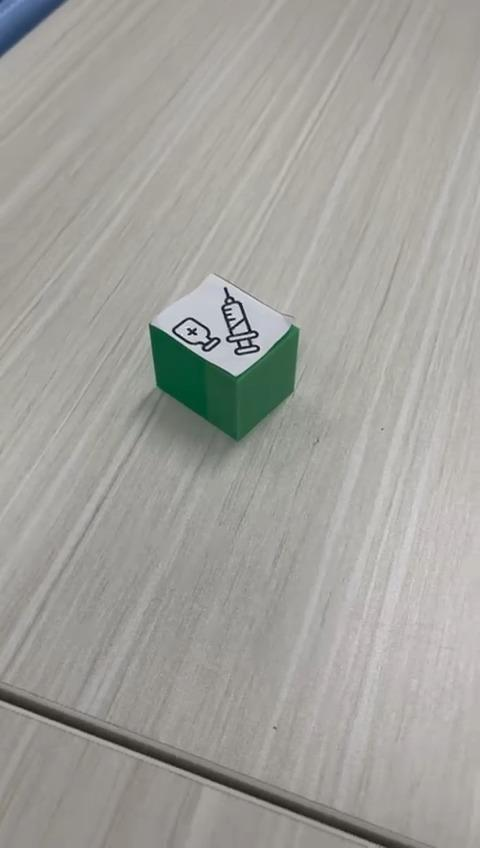antiseptic cream: (147, 271, 300, 441)
